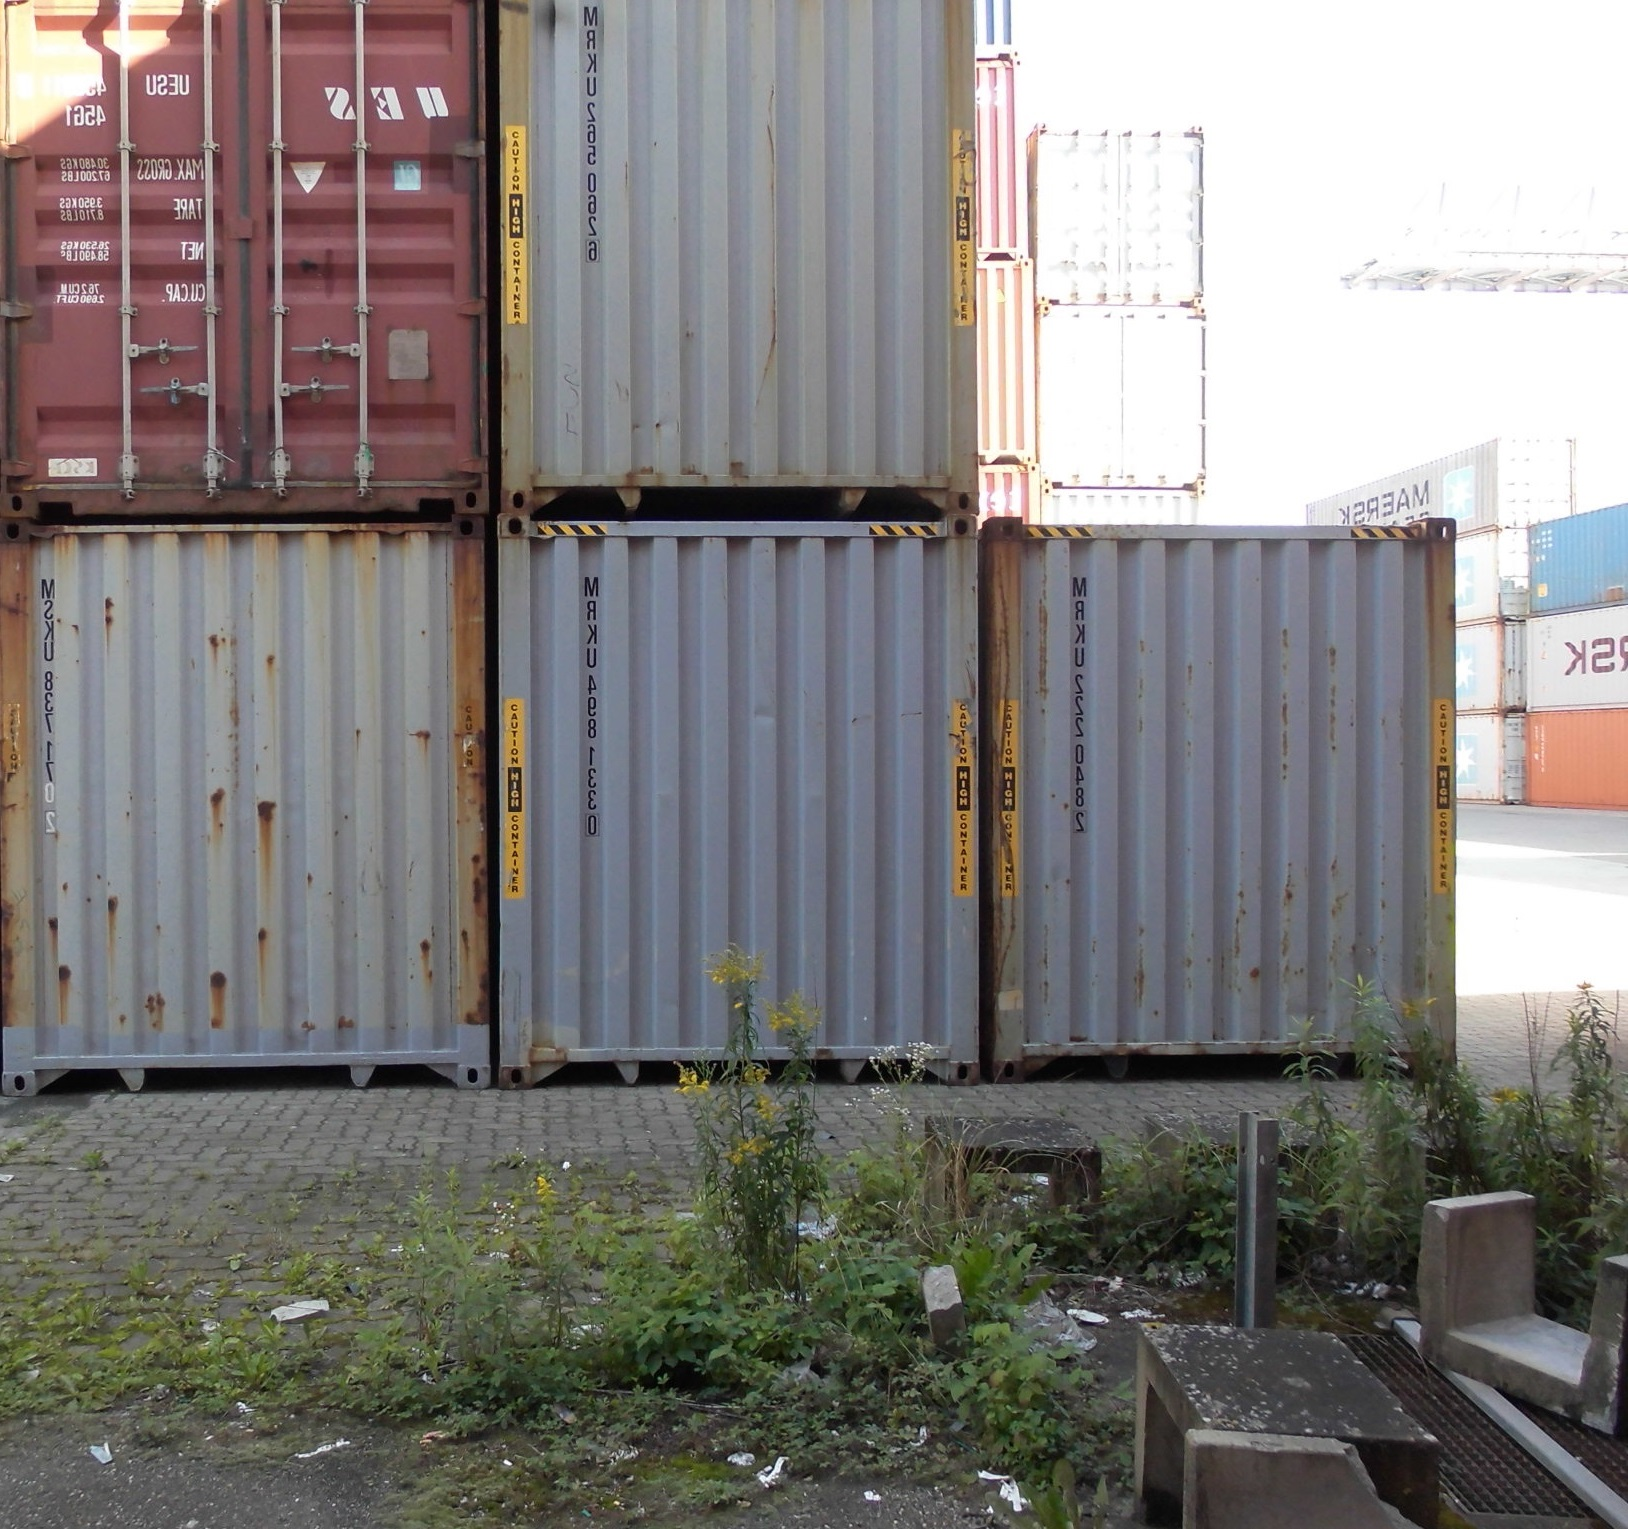container_door: (11, 1, 499, 514)
container_no_door: (1, 525, 497, 1084), (497, 522, 991, 1081), (1000, 512, 1456, 1076), (494, 1, 980, 526)
